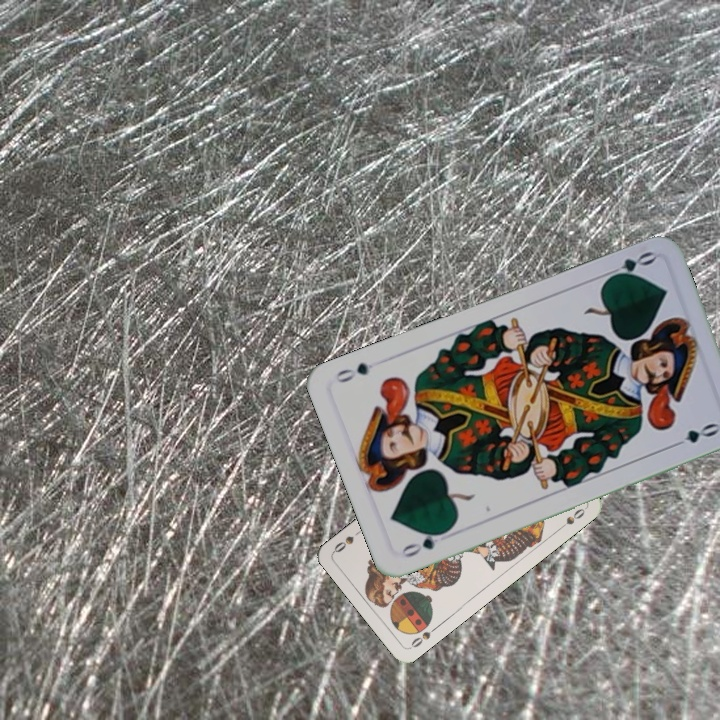GO: (600, 247, 658, 284), (397, 525, 451, 560)
SO: (406, 622, 440, 651)
